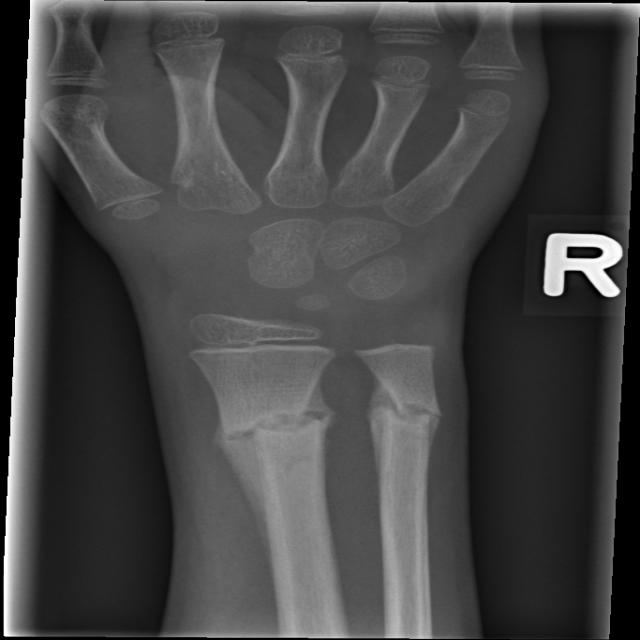radius fracture: (173, 374, 351, 487)
ulna fracture: (354, 375, 464, 466)
